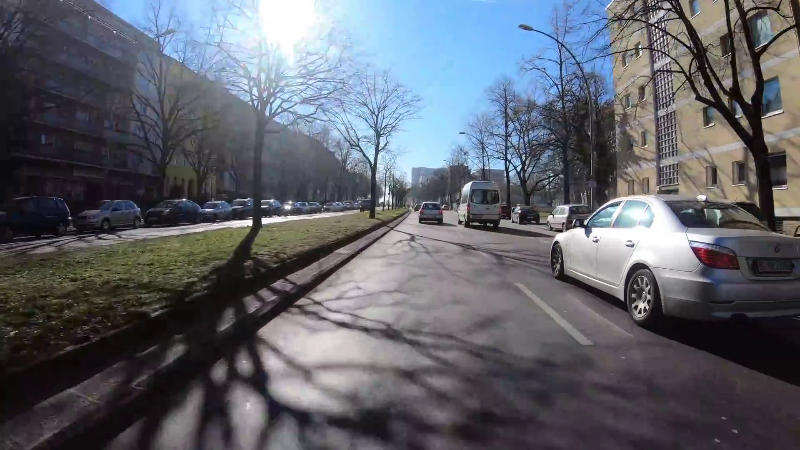Plate: (751, 255, 795, 277)
